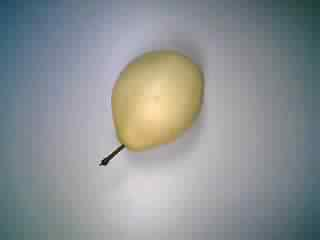pear: (95, 46, 208, 172)
